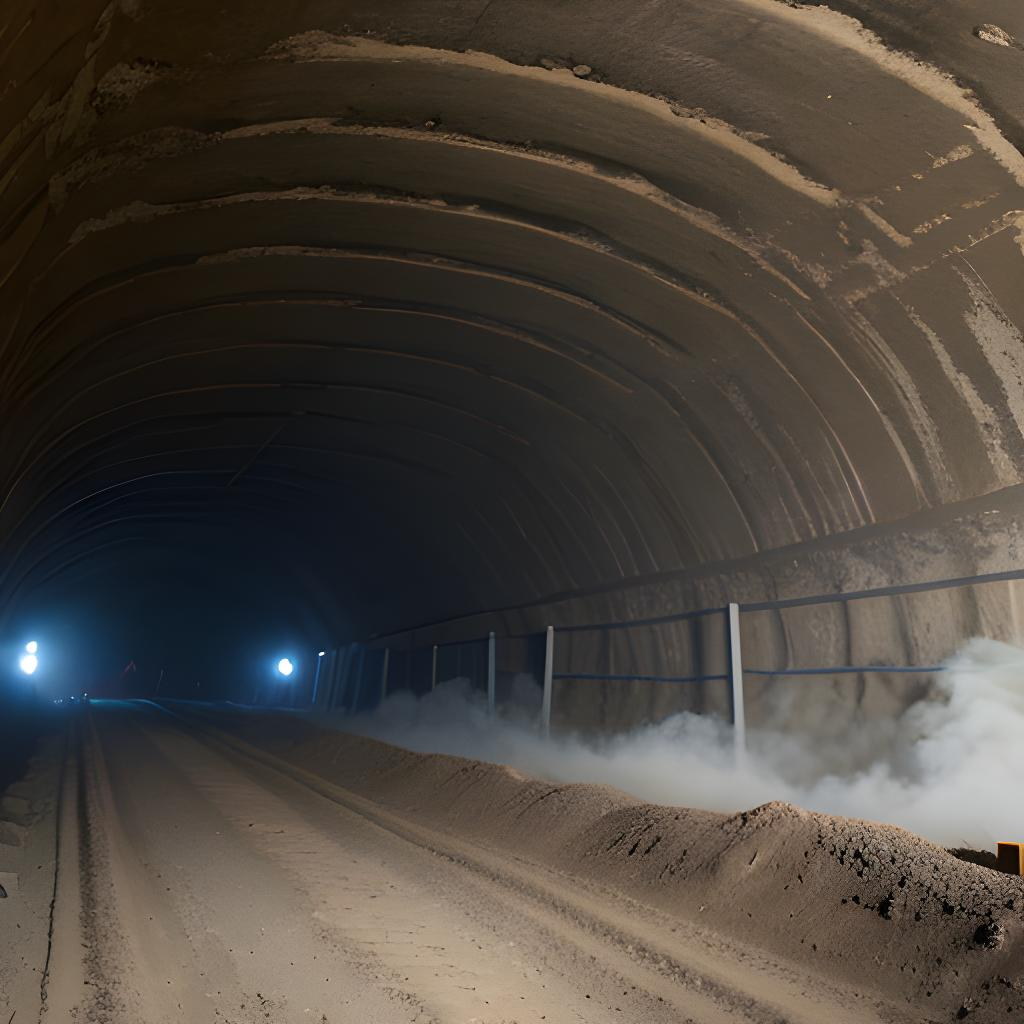smoke: (311, 607, 1024, 896)
